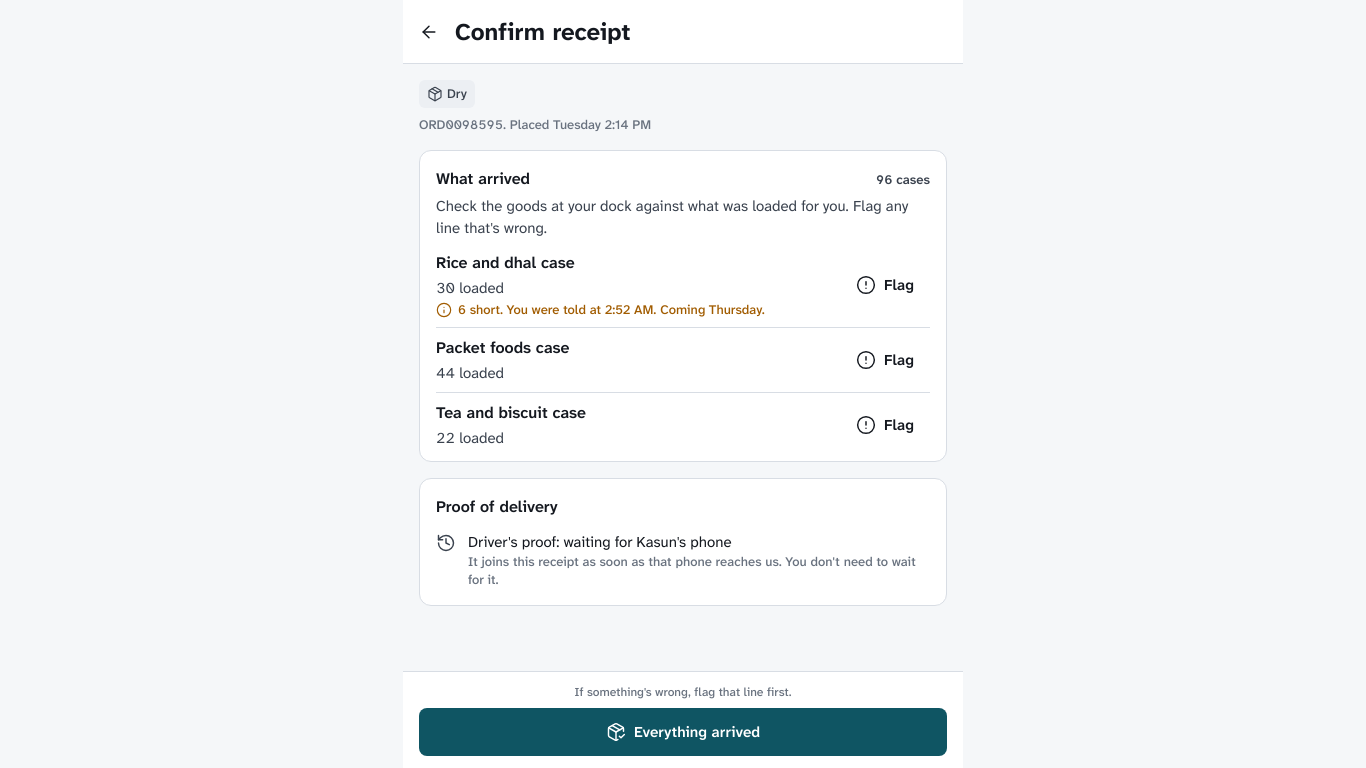
Test: Confirm receipt › sends a flagged line as an issue, and keeps it with the same client_ref while the phone is offline
Click the button with aria-label "Flag Packet foods case": (885, 360) [840,338,930,382]
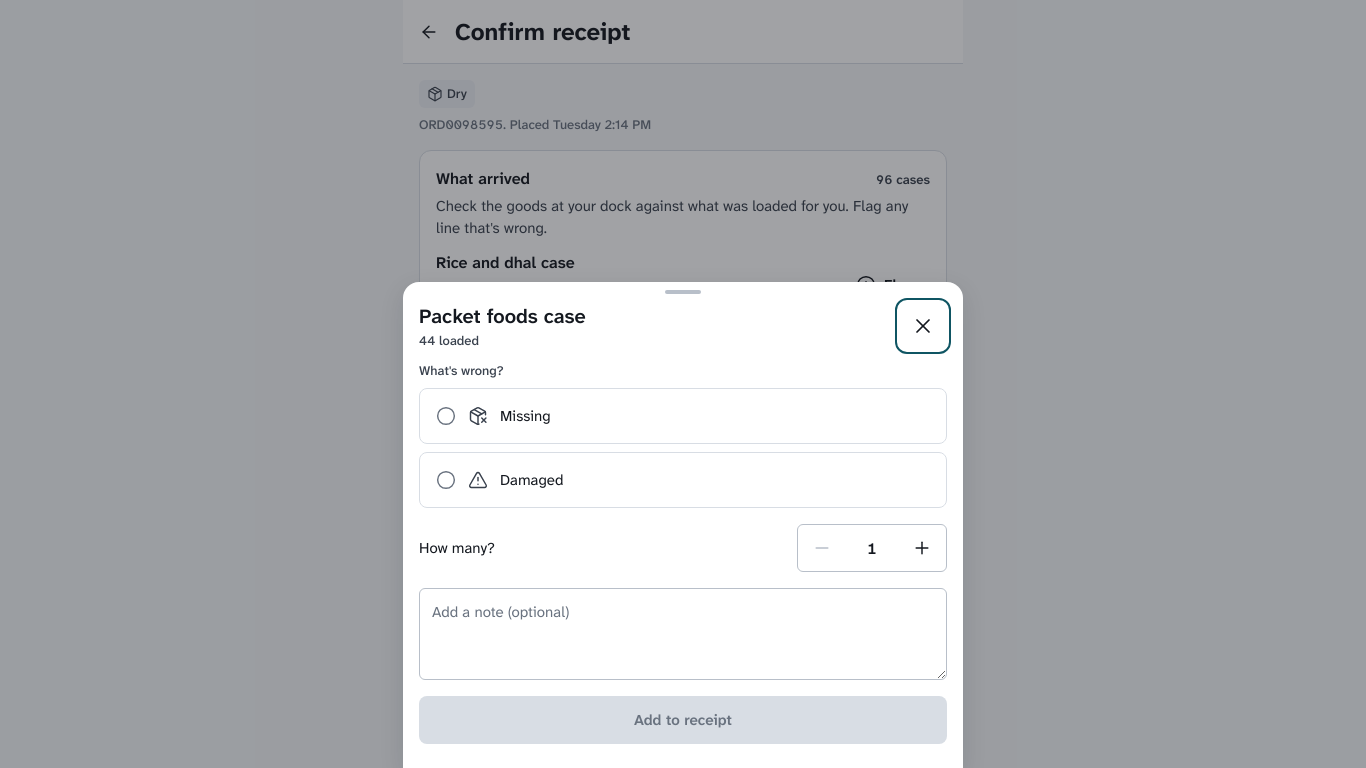
Check: the button "Add to receipt" is disabled, box [419,696,947,744]
Click the radio button labelled "Damaged": (532, 480) [419,452,947,508]
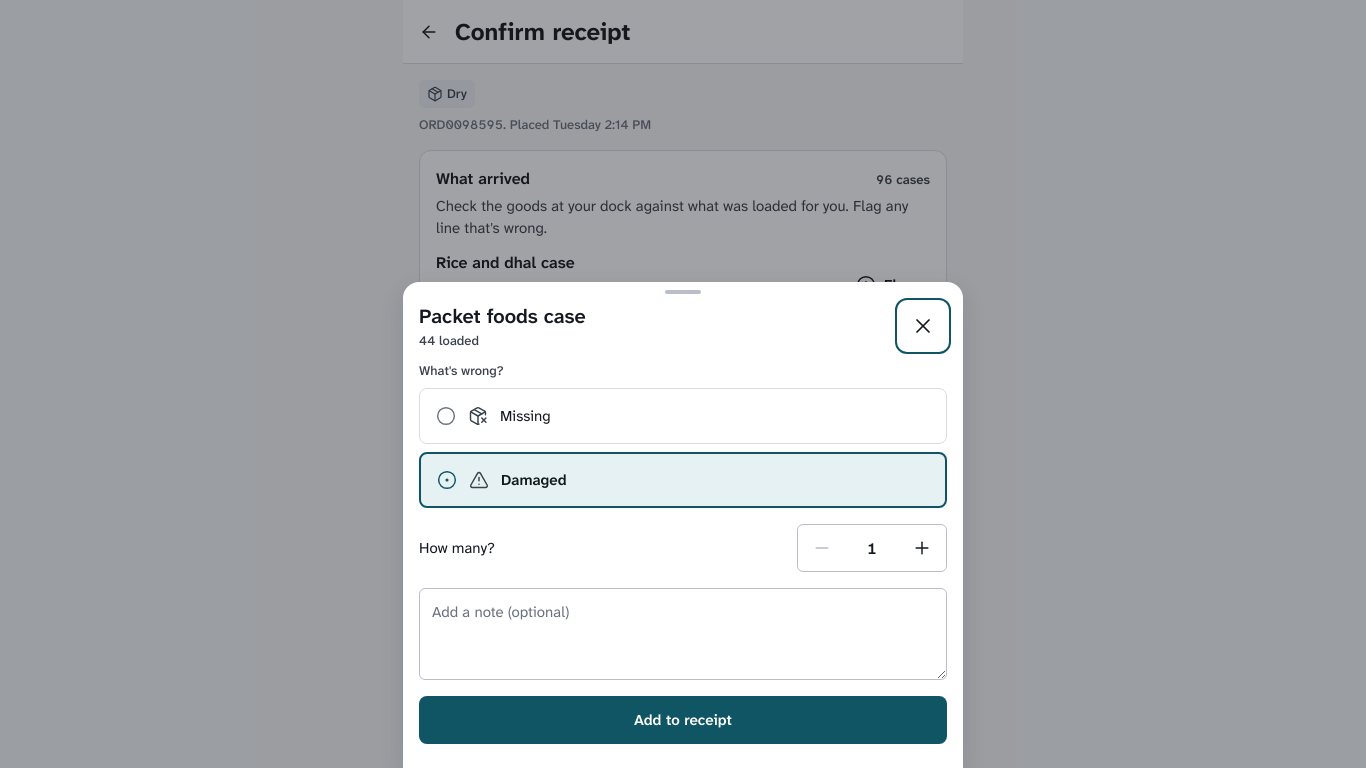
Click the button "Add to receipt": (683, 720) [419,696,947,744]
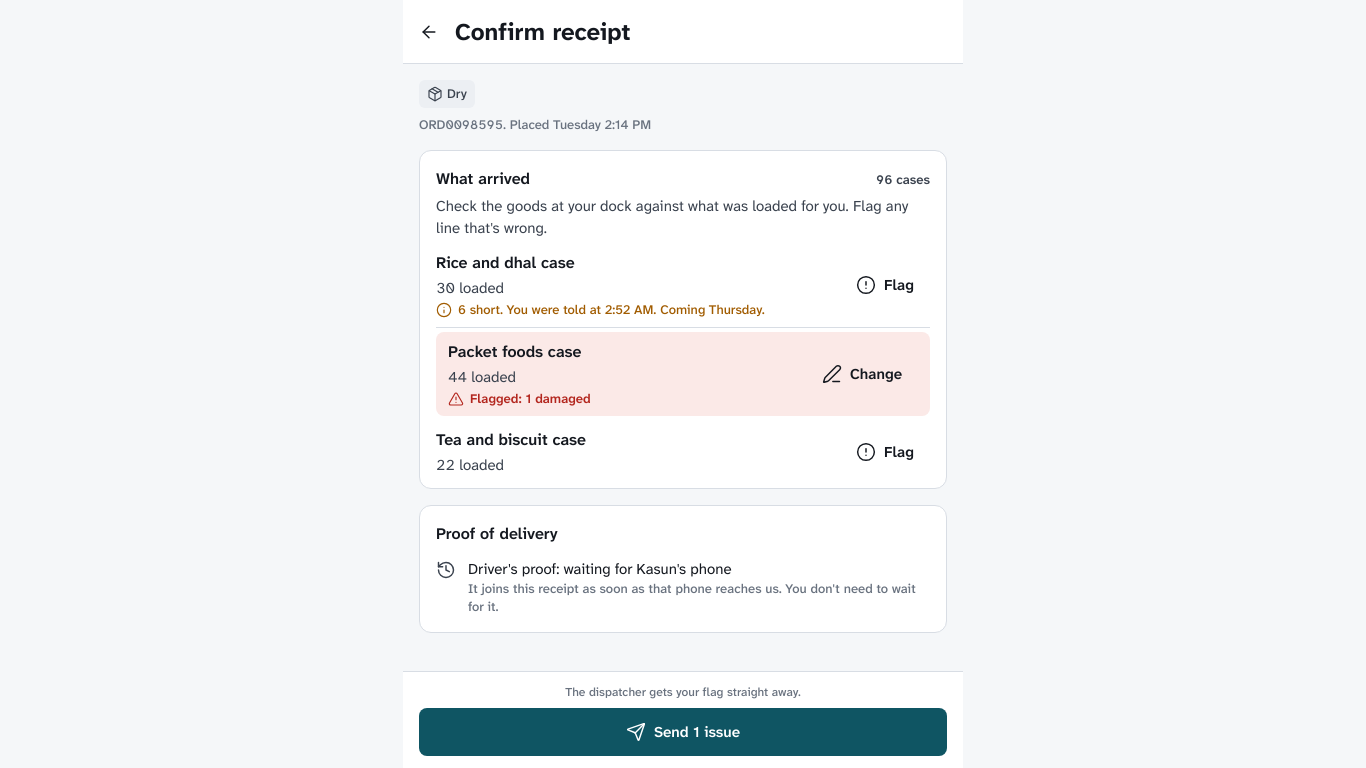
Check: the text "Flagged: 1 damaged" is shown, box [448,390,591,408]
Click the button "Send 1 issue": (683, 732) [419,708,947,756]
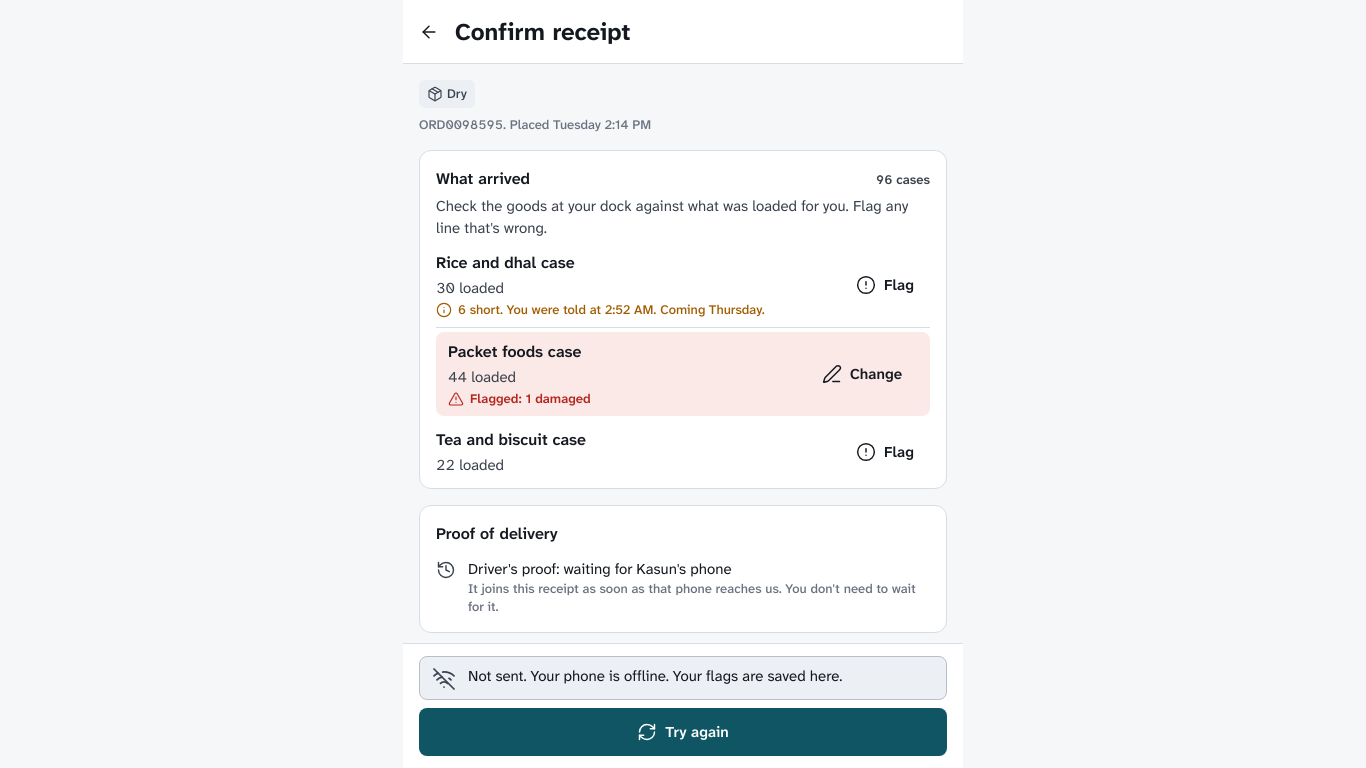
Check: the text "Issue sent" is not shown
Check: the text "Not sent. Your phone is offline. Your flags are saved here." is shown, box [468,666,842,686]
Click the button "Try again": (683, 732) [419,708,947,756]
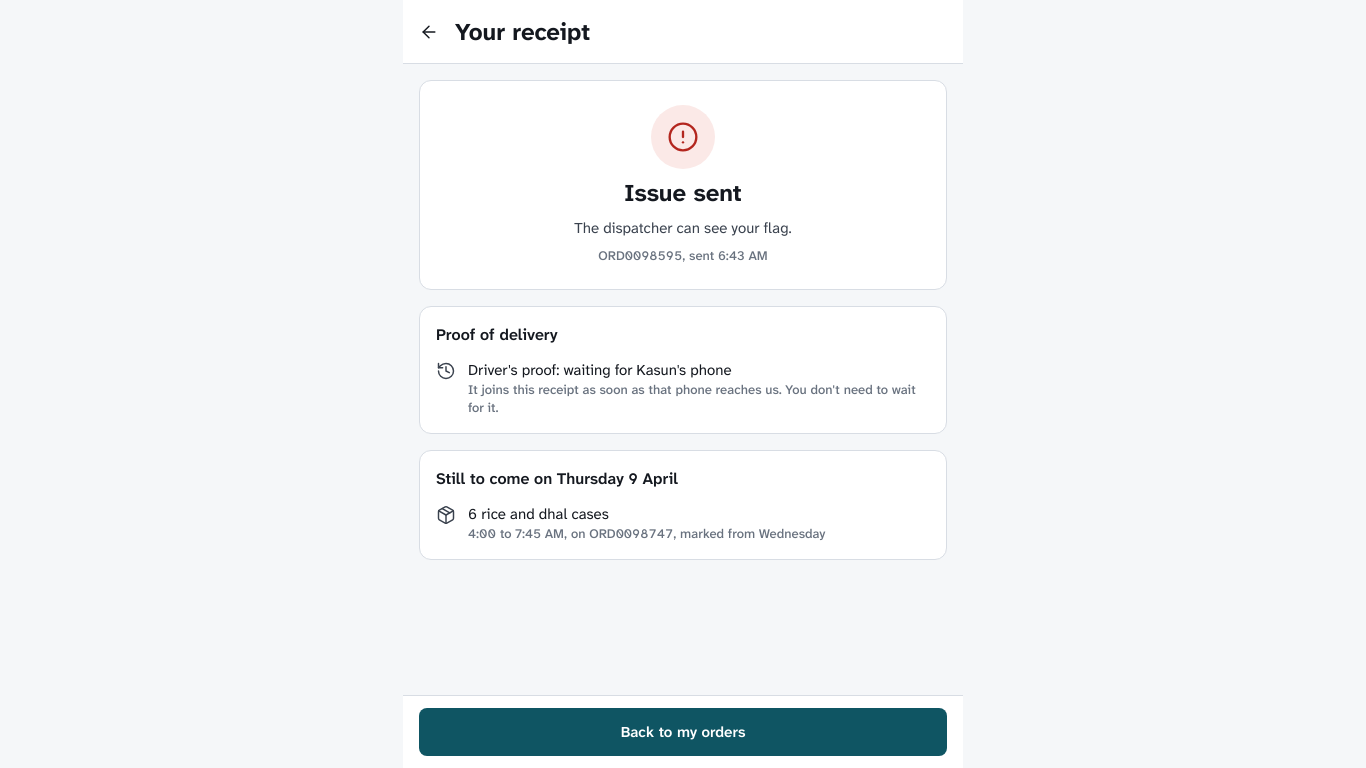
Check: the heading "Issue sent" is shown, box [624,177,742,209]
